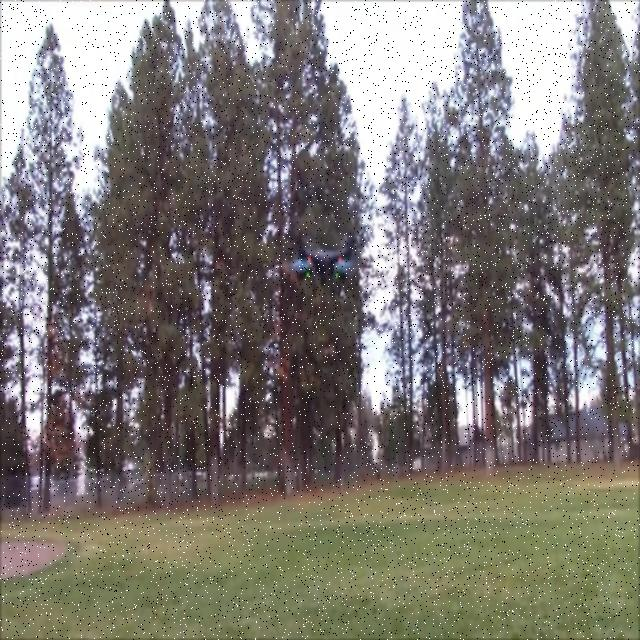UAV: (287, 231, 360, 299)
